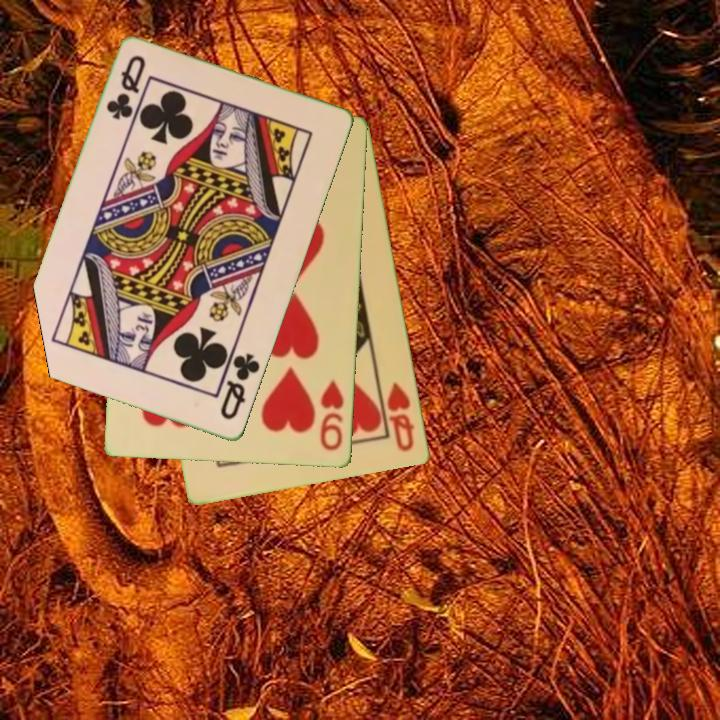9h: (317, 377, 347, 454)
Qc: (215, 344, 263, 423), (102, 52, 149, 124)
Qh: (384, 379, 418, 455)
